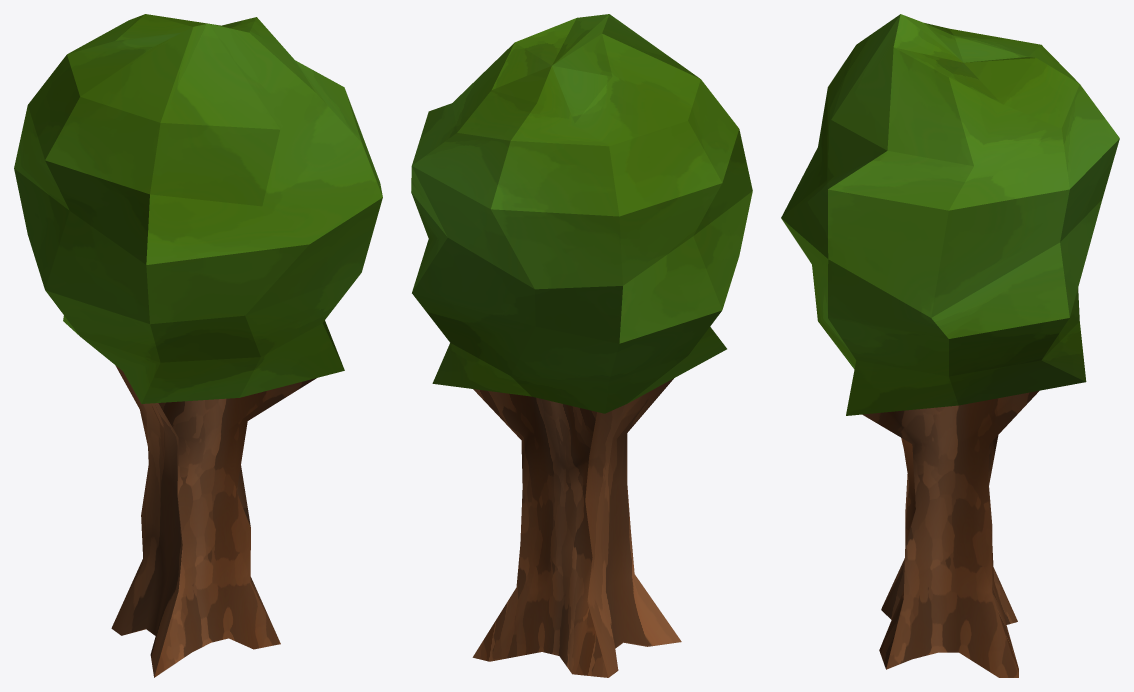
Rendered from Tree.fbx.
3 renders of one model, left to right at view 1: azimuth 30°, elevation 25°; view 2: azimuth 150°, elevation 25°; view 3: azimuth 270°, elevation 25°, orthographic.
Visible parts, largest first — view 1: pSphere1, pCube1; view 2: pSphere1, pCube1; view 3: pSphere1, pCube1.
Boxes of the visible parts, left/top/right/bottom form: pSphere1: left=14, top=14, right=382, bottom=403; pCube1: left=111, top=365, right=316, bottom=677; pSphere1: left=411, top=14, right=752, bottom=413; pCube1: left=472, top=378, right=681, bottom=677; pSphere1: left=781, top=14, right=1119, bottom=415; pCube1: left=862, top=390, right=1039, bottom=677.
Bounding box in the file's own units: 12.24 × 22.66 × 11.13.
